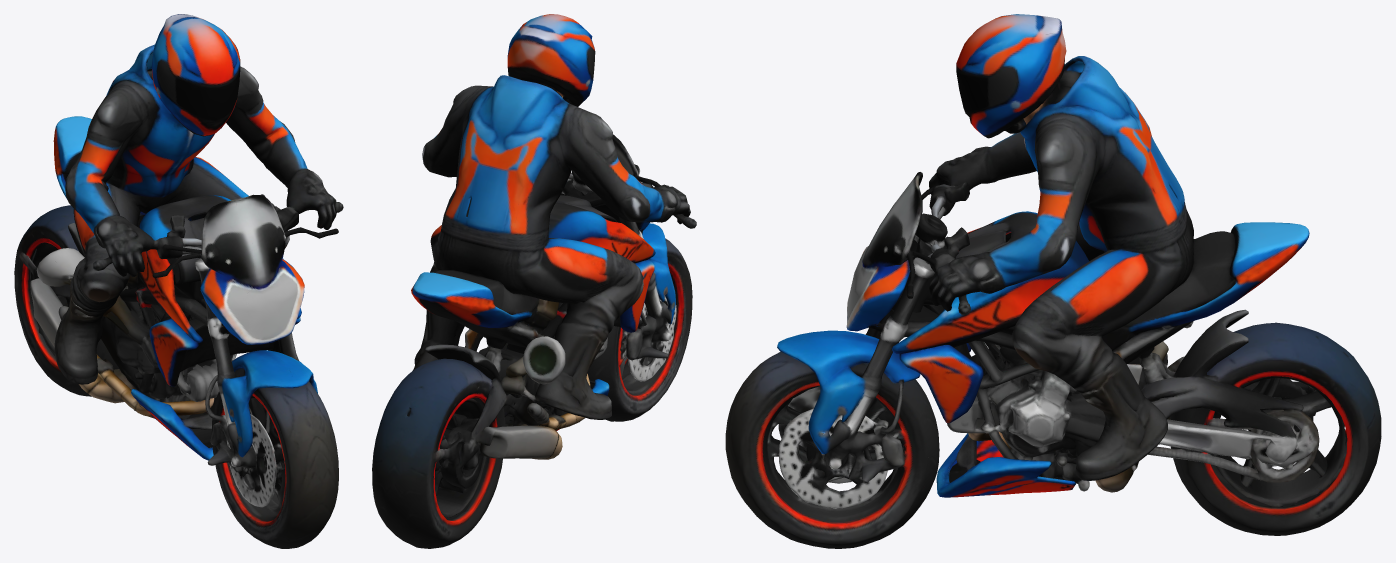
File: motorcycle.glb
3 renders of one model, left to right at view 1: azimuth 30°, elevation 25°; view 2: azimuth 150°, elevation 25°; view 3: azimuth 270°, elevation 25°, orthographic. The views are drawn at different scales.
Parts seen in each view (by area): view 1: world; view 2: world; view 3: world.
Part boxes in pixels (left/top/right/bottom): world: left=14, top=14, right=343, bottom=548; world: left=372, top=14, right=696, bottom=548; world: left=725, top=14, right=1381, bottom=548.
Bounding box in the file's own units: 0.5047 × 0.8892 × 1.
Materials: 1 (1 with a texture image).
